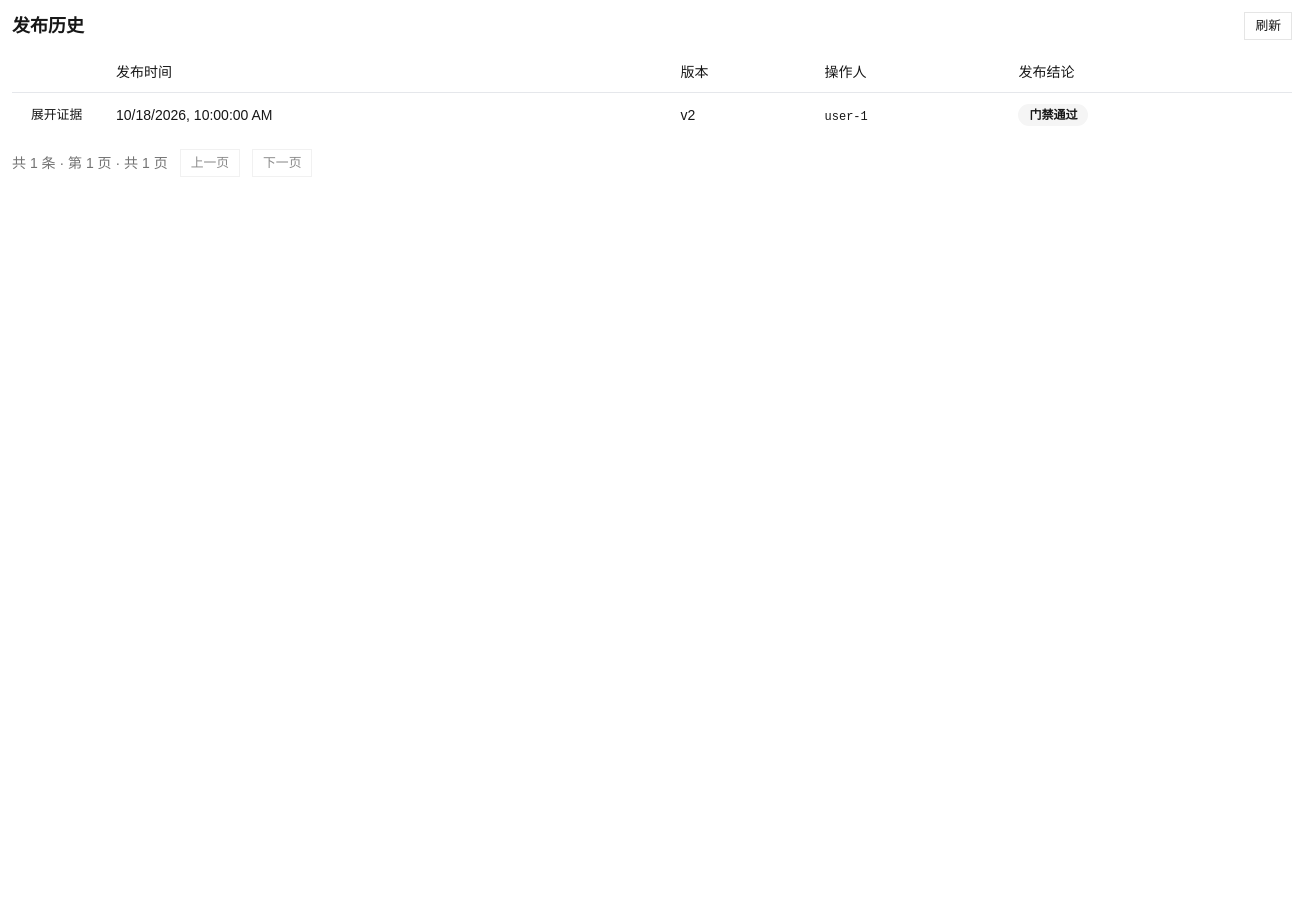
Test: PublicationHistoryPanel › expands frozen receipt evidence without querying latest evaluations
Click the button "展开证据". click: (57, 114)
box: left=20, top=100, right=93, bottom=128
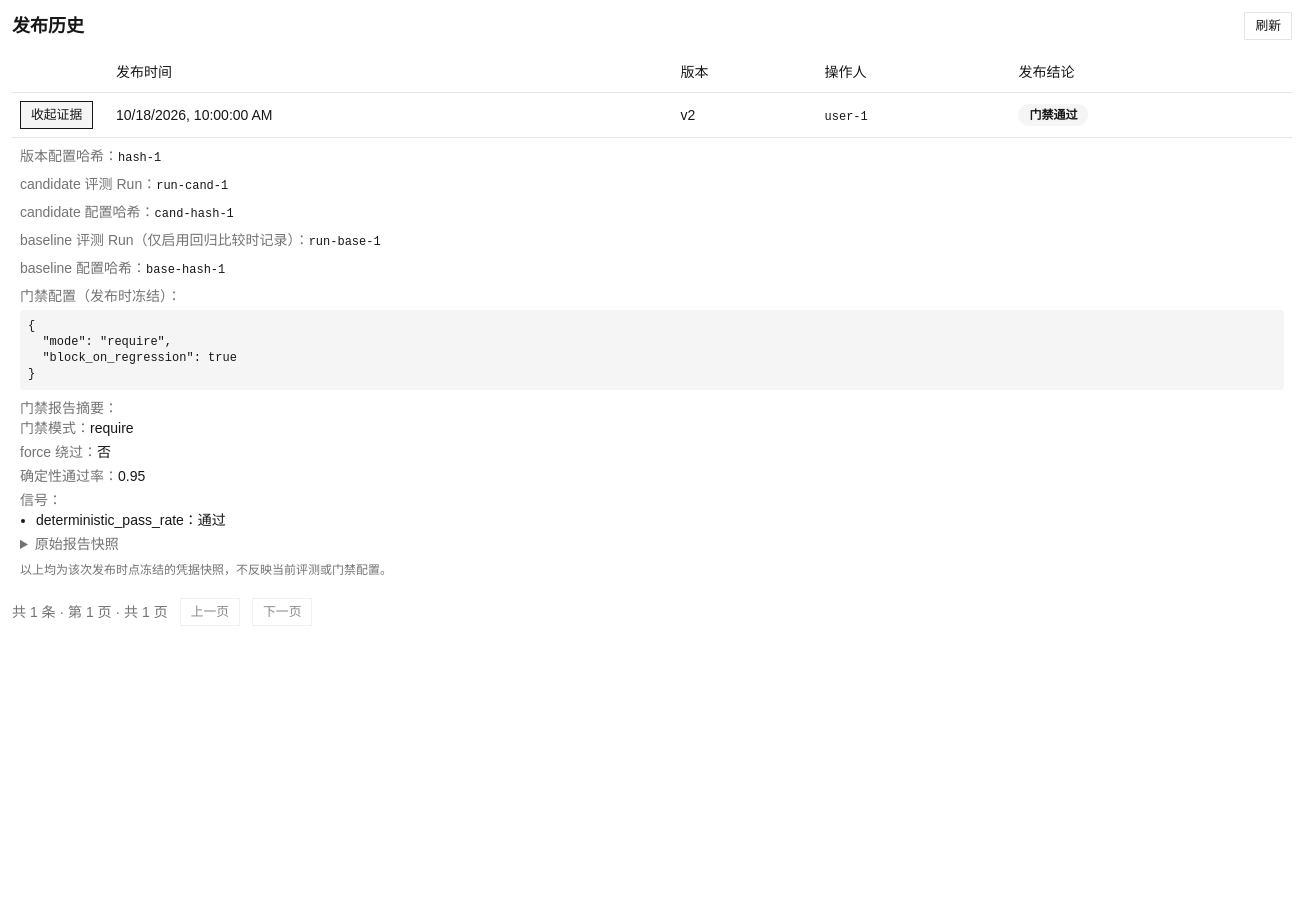
Now the row with test id "evidence-receipt-" shows "hash-1", box left=118, top=150, right=161, bottom=164
Now the row with test id "evidence-receipt-" shows "run-cand-1", box left=156, top=178, right=228, bottom=192
Now the row with test id "evidence-receipt-" shows "cand-hash-1", box left=155, top=206, right=234, bottom=220
